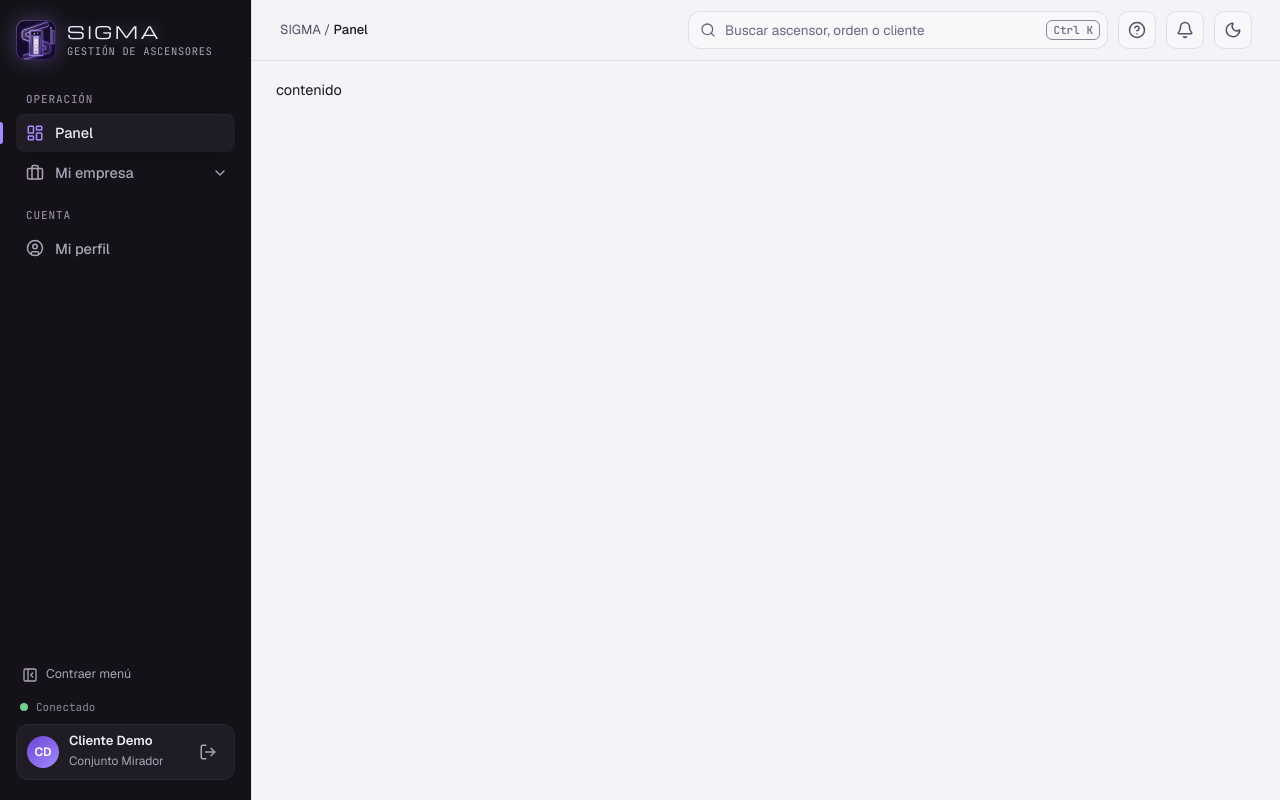
it: menú según permisos del rol › el cliente solo ve sus módulos de consulta
expect the link "Mi empresa" is shown: met, box [26,163,134,182]
expect the button "Conjuntos" is not shown: met
Click the button named "desplegar mi empresa". click: (220, 173)
box: [205,158,235,188]
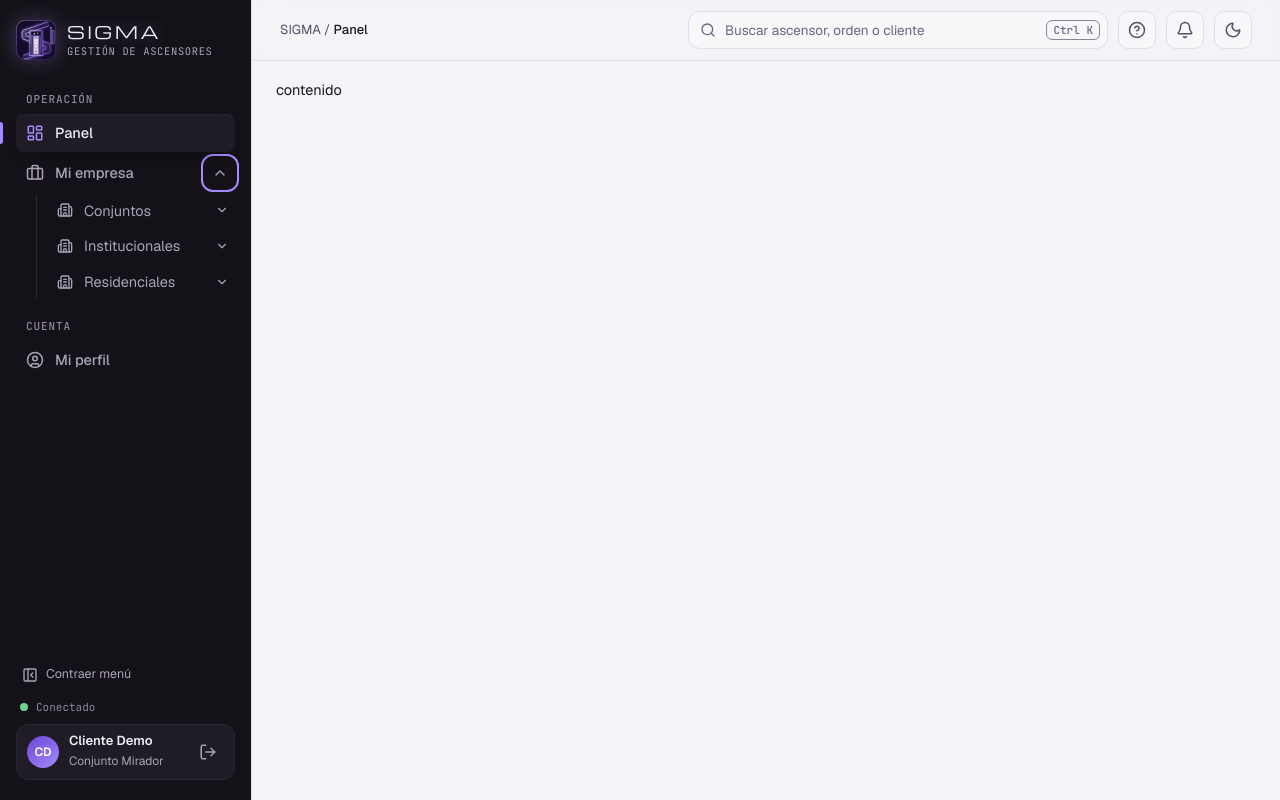
expect the button "Conjuntos" is shown: met, box [47,194,207,227]
expect the button "Institucionales" is shown: met, box [47,229,207,263]
expect the button "Residenciales" is shown: met, box [47,265,207,299]
